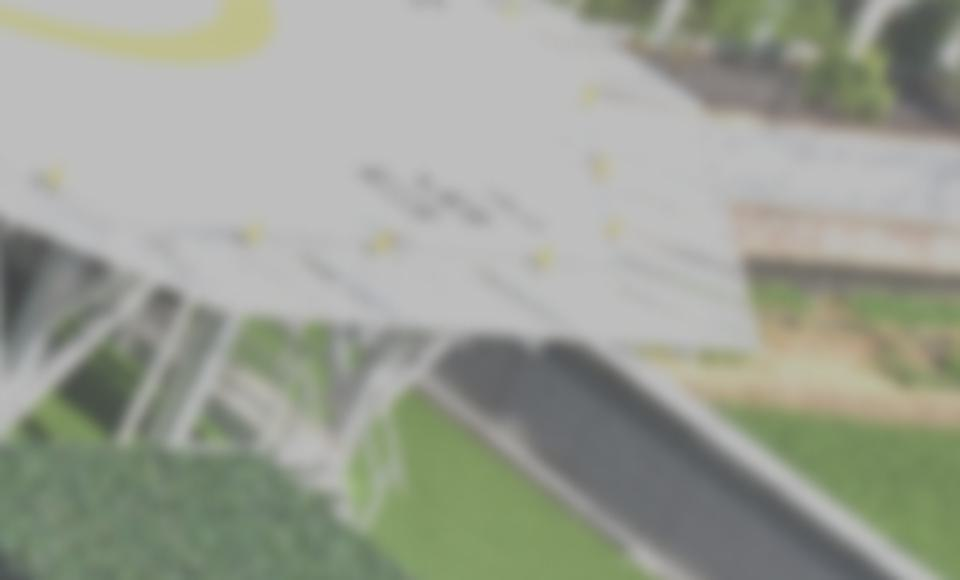Apron: (1, 1, 279, 71)
